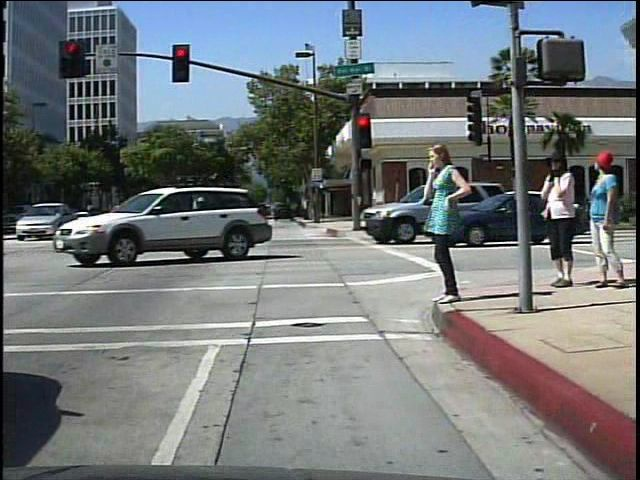person: (419, 137, 471, 307), (537, 147, 582, 293), (582, 146, 624, 293)
